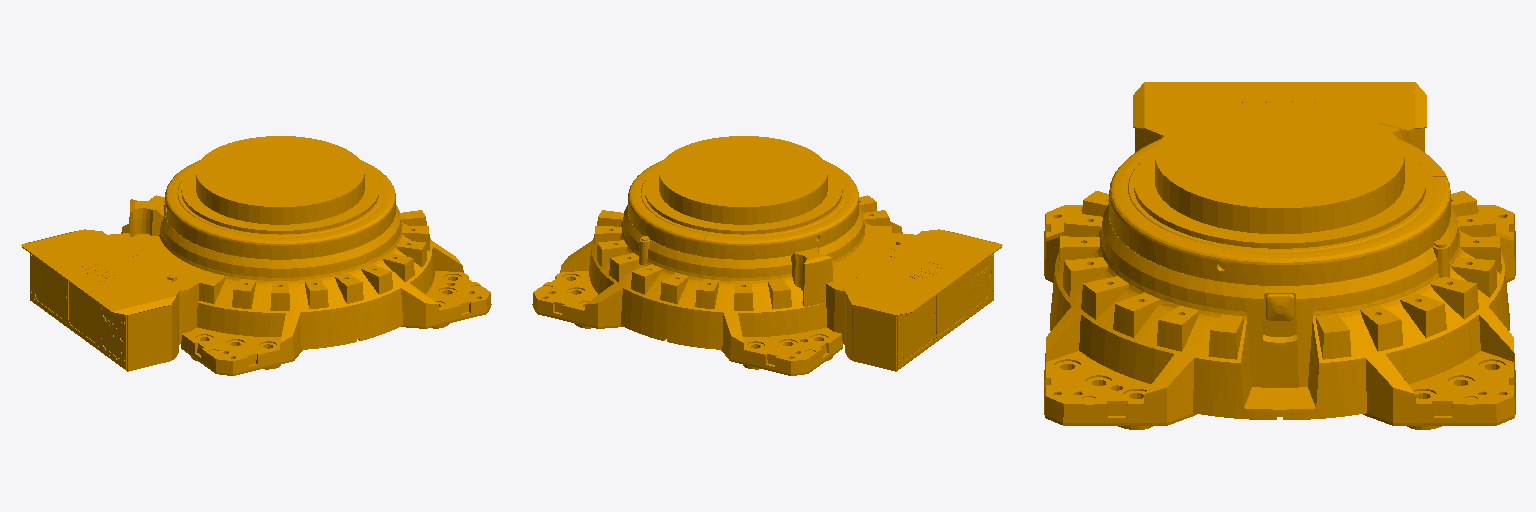
The robot description file, URDF, robot "IRB8700_800-350":
<?xml version="1.0" ?>
<robot name="IRB8700_800-350">

<link name="base_link">
  <inertial>
    <origin xyz="-0.08037184969585716 0.0006300808261457967 0.15332267644640482" rpy="0 0 0"/>
    <mass value="1505.6521038393914"/>
    <inertia ixx="76.523178" iyy="124.443069" izz="174.383681" ixy="0.159184" iyz="-0.066316" ixz="-5.164151"/>
  </inertial>
  <visual>
    <origin xyz="0 0 0" rpy="0 0 0"/>
    <geometry>
      <mesh filename="package://IRB8700_800-350_description/meshes/base_link.stl" scale="0.001 0.001 0.001"/>
    </geometry>
    <material name="silver"/>
  </visual>
  <collision>
    <origin xyz="0 0 0" rpy="0 0 0"/>
    <geometry>
      <mesh filename="package://IRB8700_800-350_description/meshes/base_link.stl" scale="0.001 0.001 0.001"/>
    </geometry>
  </collision>
</link>

<link name="IRB8700_800-350_IRC5_rev00_LINK1_CAD_v1_1">
  <inertial>
    <origin xyz="0.30364505280838955 -0.0018357799370513142 0.5157165485900264" rpy="0 0 0"/>
    <mass value="1785.9186850506833"/>
    <inertia ixx="319.960777" iyy="204.24516" izz="276.794643" ixy="0.482677" iyz="6.821785" ixz="-58.562622"/>
  </inertial>
  <visual>
    <origin xyz="0.0 -0.0 -0.300337" rpy="0 0 0"/>
    <geometry>
      <mesh filename="package://IRB8700_800-350_description/meshes/IRB8700_800-350_IRC5_rev00_LINK1_CAD_v1_1.stl" scale="0.001 0.001 0.001"/>
    </geometry>
    <material name="silver"/>
  </visual>
  <collision>
    <origin xyz="0.0 -0.0 -0.300337" rpy="0 0 0"/>
    <geometry>
      <mesh filename="package://IRB8700_800-350_description/meshes/IRB8700_800-350_IRC5_rev00_LINK1_CAD_v1_1.stl" scale="0.001 0.001 0.001"/>
    </geometry>
  </collision>
</link>

<link name="IRB8700_800-350_IRC5_rev00_LINK2_CAD_v1_1">
  <inertial>
    <origin xyz="0.1193738222891802 0.2222896100229376 0.7303852208694914" rpy="0 0 0"/>
    <mass value="1443.4541146557397"/>
    <inertia ixx="283.515678" iyy="273.52004" izz="40.693426" ixy="0.50972" iyz="10.053071" ixz="15.357031"/>
  </inertial>
  <visual>
    <origin xyz="-0.42 0.21 -1.0" rpy="0 0 0"/>
    <geometry>
      <mesh filename="package://IRB8700_800-350_description/meshes/IRB8700_800-350_IRC5_rev00_LINK2_CAD_v1_1.stl" scale="0.001 0.001 0.001"/>
    </geometry>
    <material name="silver"/>
  </visual>
  <collision>
    <origin xyz="-0.42 0.21 -1.0" rpy="0 0 0"/>
    <geometry>
      <mesh filename="package://IRB8700_800-350_description/meshes/IRB8700_800-350_IRC5_rev00_LINK2_CAD_v1_1.stl" scale="0.001 0.001 0.001"/>
    </geometry>
  </collision>
</link>

<link name="IRB8700_800-350_IRC5_rev00_LINK3_CAD_v1_1">
  <inertial>
    <origin xyz="-0.13074491407877226 0.4619189297387206 0.23397324999694247" rpy="0 0 0"/>
    <mass value="867.5203145831158"/>
    <inertia ixx="45.096822" iyy="53.006314" izz="58.494954" ixy="1.118886" iyz="-6.435807" ixz="-1.22999"/>
  </inertial>
  <visual>
    <origin xyz="-0.42 0.363 -2.58" rpy="0 0 0"/>
    <geometry>
      <mesh filename="package://IRB8700_800-350_description/meshes/IRB8700_800-350_IRC5_rev00_LINK3_CAD_v1_1.stl" scale="0.001 0.001 0.001"/>
    </geometry>
    <material name="silver"/>
  </visual>
  <collision>
    <origin xyz="-0.42 0.363 -2.58" rpy="0 0 0"/>
    <geometry>
      <mesh filename="package://IRB8700_800-350_description/meshes/IRB8700_800-350_IRC5_rev00_LINK3_CAD_v1_1.stl" scale="0.001 0.001 0.001"/>
    </geometry>
  </collision>
</link>

<link name="IRB8700_800-350_IRC5_rev00_LINK4_CAD_v1_1">
  <inertial>
    <origin xyz="0.6024871706759326 -0.030081371080166425 2.0651999724119463e-05" rpy="0 0 0"/>
    <mass value="1084.7317720031733"/>
    <inertia ixx="34.925547" iyy="224.146495" izz="243.096935" ixy="14.706004" iyz="0.004918" ixz="-0.010022"/>
  </inertial>
  <visual>
    <origin xyz="-0.764558 0.0 -2.89" rpy="0 0 0"/>
    <geometry>
      <mesh filename="package://IRB8700_800-350_description/meshes/IRB8700_800-350_IRC5_rev00_LINK4_CAD_v1_1.stl" scale="0.001 0.001 0.001"/>
    </geometry>
    <material name="silver"/>
  </visual>
  <collision>
    <origin xyz="-0.764558 0.0 -2.89" rpy="0 0 0"/>
    <geometry>
      <mesh filename="package://IRB8700_800-350_description/meshes/IRB8700_800-350_IRC5_rev00_LINK4_CAD_v1_1.stl" scale="0.001 0.001 0.001"/>
    </geometry>
  </collision>
</link>

<link name="IRB8700_800-350_IRC5_rev00_LINK5_CAD_v1_1">
  <inertial>
    <origin xyz="0.08768857349934933 -0.15923059324200087 -0.0001545447063584504" rpy="0 0 0"/>
    <mass value="180.47343892140714"/>
    <inertia ixx="2.06276" iyy="3.365394" izz="3.78417" ixy="-0.149244" iyz="-0.018887" ixz="-0.021198"/>
  </inertial>
  <visual>
    <origin xyz="-1.895 -0.150019 -2.890533" rpy="0 0 0"/>
    <geometry>
      <mesh filename="package://IRB8700_800-350_description/meshes/IRB8700_800-350_IRC5_rev00_LINK5_CAD_v1_1.stl" scale="0.001 0.001 0.001"/>
    </geometry>
    <material name="silver"/>
  </visual>
  <collision>
    <origin xyz="-1.895 -0.150019 -2.890533" rpy="0 0 0"/>
    <geometry>
      <mesh filename="package://IRB8700_800-350_description/meshes/IRB8700_800-350_IRC5_rev00_LINK5_CAD_v1_1.stl" scale="0.001 0.001 0.001"/>
    </geometry>
  </collision>
</link>

<link name="IRB8700_800-350_IRC5_rev00_LINK6_CAD_v1_1">
  <inertial>
    <origin xyz="0.024033135358549007 -9.416771800048662e-07 -8.023741163132314e-05" rpy="0 0 0"/>
    <mass value="24.42929785915679"/>
    <inertia ixx="0.284639" iyy="0.147061" izz="0.147308" ixy="-0.0" iyz="-2e-06" ixz="3.4e-05"/>
  </inertial>
  <visual>
    <origin xyz="-2.1555 -0.0 -2.89" rpy="0 0 0"/>
    <geometry>
      <mesh filename="package://IRB8700_800-350_description/meshes/IRB8700_800-350_IRC5_rev00_LINK6_CAD_v1_1.stl" scale="0.001 0.001 0.001"/>
    </geometry>
    <material name="silver"/>
  </visual>
  <collision>
    <origin xyz="-2.1555 -0.0 -2.89" rpy="0 0 0"/>
    <geometry>
      <mesh filename="package://IRB8700_800-350_description/meshes/IRB8700_800-350_IRC5_rev00_LINK6_CAD_v1_1.stl" scale="0.001 0.001 0.001"/>
    </geometry>
  </collision>
</link>

<link name="IRB8700_800-350_IRC5_rev00_LINKARM_CAD_v1_1">
  <inertial>
    <origin xyz="-0.932100542523743 0.20883579238144037 0.04362889564275241" rpy="0 0 0"/>
    <mass value="1651.2082436339517"/>
    <inertia ixx="326.192089" iyy="160.156233" izz="441.081108" ixy="10.128143" iyz="-0.673814" ixz="9.121701"/>
  </inertial>
  <visual>
    <origin xyz="-0.42 0.215 -1.0" rpy="0 0 0"/>
    <geometry>
      <mesh filename="package://IRB8700_800-350_description/meshes/IRB8700_800-350_IRC5_rev00_LINKARM_CAD_v1_1.stl" scale="0.001 0.001 0.001"/>
    </geometry>
    <material name="silver"/>
  </visual>
  <collision>
    <origin xyz="-0.42 0.215 -1.0" rpy="0 0 0"/>
    <geometry>
      <mesh filename="package://IRB8700_800-350_description/meshes/IRB8700_800-350_IRC5_rev00_LINKARM_CAD_v1_1.stl" scale="0.001 0.001 0.001"/>
    </geometry>
  </collision>
</link>

<joint name="j1" type="continuous">
  <origin xyz="0.0 0.0 0.300337" rpy="0 0 0"/>
  <parent link="base_link"/>
  <child link="IRB8700_800-350_IRC5_rev00_LINK1_CAD_v1_1"/>
  <axis xyz="0.0 -0.0 -1.0"/>
</joint>

<joint name="j2" type="continuous">
  <origin xyz="0.42 -0.21 0.699663" rpy="0 0 0"/>
  <parent link="IRB8700_800-350_IRC5_rev00_LINK1_CAD_v1_1"/>
  <child link="IRB8700_800-350_IRC5_rev00_LINK2_CAD_v1_1"/>
  <axis xyz="0.0 -1.0 0.0"/>
</joint>

<joint name="j3" type="continuous">
  <origin xyz="0.0 -0.153 1.58" rpy="0 0 0"/>
  <parent link="IRB8700_800-350_IRC5_rev00_LINK2_CAD_v1_1"/>
  <child link="IRB8700_800-350_IRC5_rev00_LINK3_CAD_v1_1"/>
  <axis xyz="0.0 -1.0 0.0"/>
</joint>

<joint name="j4" type="continuous">
  <origin xyz="0.344558 0.363 0.31" rpy="0 0 0"/>
  <parent link="IRB8700_800-350_IRC5_rev00_LINK3_CAD_v1_1"/>
  <child link="IRB8700_800-350_IRC5_rev00_LINK4_CAD_v1_1"/>
  <axis xyz="-1.0 0.0 0.0"/>
</joint>

<joint name="j5" type="continuous">
  <origin xyz="1.130442 0.150019 0.000533" rpy="0 0 0"/>
  <parent link="IRB8700_800-350_IRC5_rev00_LINK4_CAD_v1_1"/>
  <child link="IRB8700_800-350_IRC5_rev00_LINK5_CAD_v1_1"/>
  <axis xyz="0.0 -0.999391 0.034899"/>
</joint>

<joint name="j6" type="continuous">
  <origin xyz="0.2605 -0.150019 -0.000533" rpy="0 0 0"/>
  <parent link="IRB8700_800-350_IRC5_rev00_LINK5_CAD_v1_1"/>
  <child link="IRB8700_800-350_IRC5_rev00_LINK6_CAD_v1_1"/>
  <axis xyz="1.0 0.0 -0.0"/>
</joint>

<joint name="tail" type="continuous">
  <origin xyz="0.42 -0.215 0.699663" rpy="0 0 0"/>
  <parent link="IRB8700_800-350_IRC5_rev00_LINK1_CAD_v1_1"/>
  <child link="IRB8700_800-350_IRC5_rev00_LINKARM_CAD_v1_1"/>
  <axis xyz="0.0 -1.0 0.0"/>
</joint>

</robot>

--- What the picture shows (computed from the rendered views, not written in the file) ---
3 views of the same robot in one strip: view 1: azimuth 30°, elevation 25°; view 2: azimuth 150°, elevation 25°; view 3: azimuth 270°, elevation 25° (orthographic).
Model IRB8700_800-350 with 8 links and 7 joints (7 continuous), rooted at base_link, posed all joints at 0.
Links seen in each view (by area): view 1: base_link; view 2: base_link; view 3: base_link.
Link boxes in pixels (x1,y1,x2,y2): base_link: (21,136,491,375); base_link: (532,136,1002,375); base_link: (1044,82,1515,429).
Bounding box of the posed robot: 1.18 × 0.92 × 0.3809 m (x, y, z).
Meshes: 8 distinct files referenced, 1 mesh visuals loaded (1 binary STL); not drawn: 7 (reference not matched to a file when rendering).